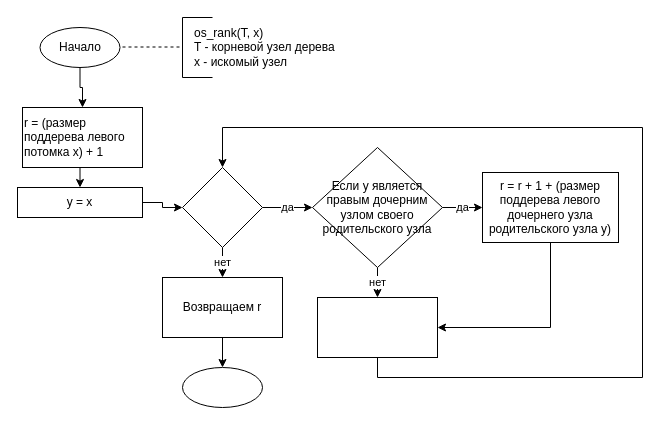
The diagram is 668 pixels wide and 425 high, and some of its shapes have lost their labels. Here are the shapes that lost their labels. From the top down, the centre of each, then its label:
pixel 222 207: Пока у не равен Т
pixel 377 327: у = родительской узел у
pixel 222 387: Конец
